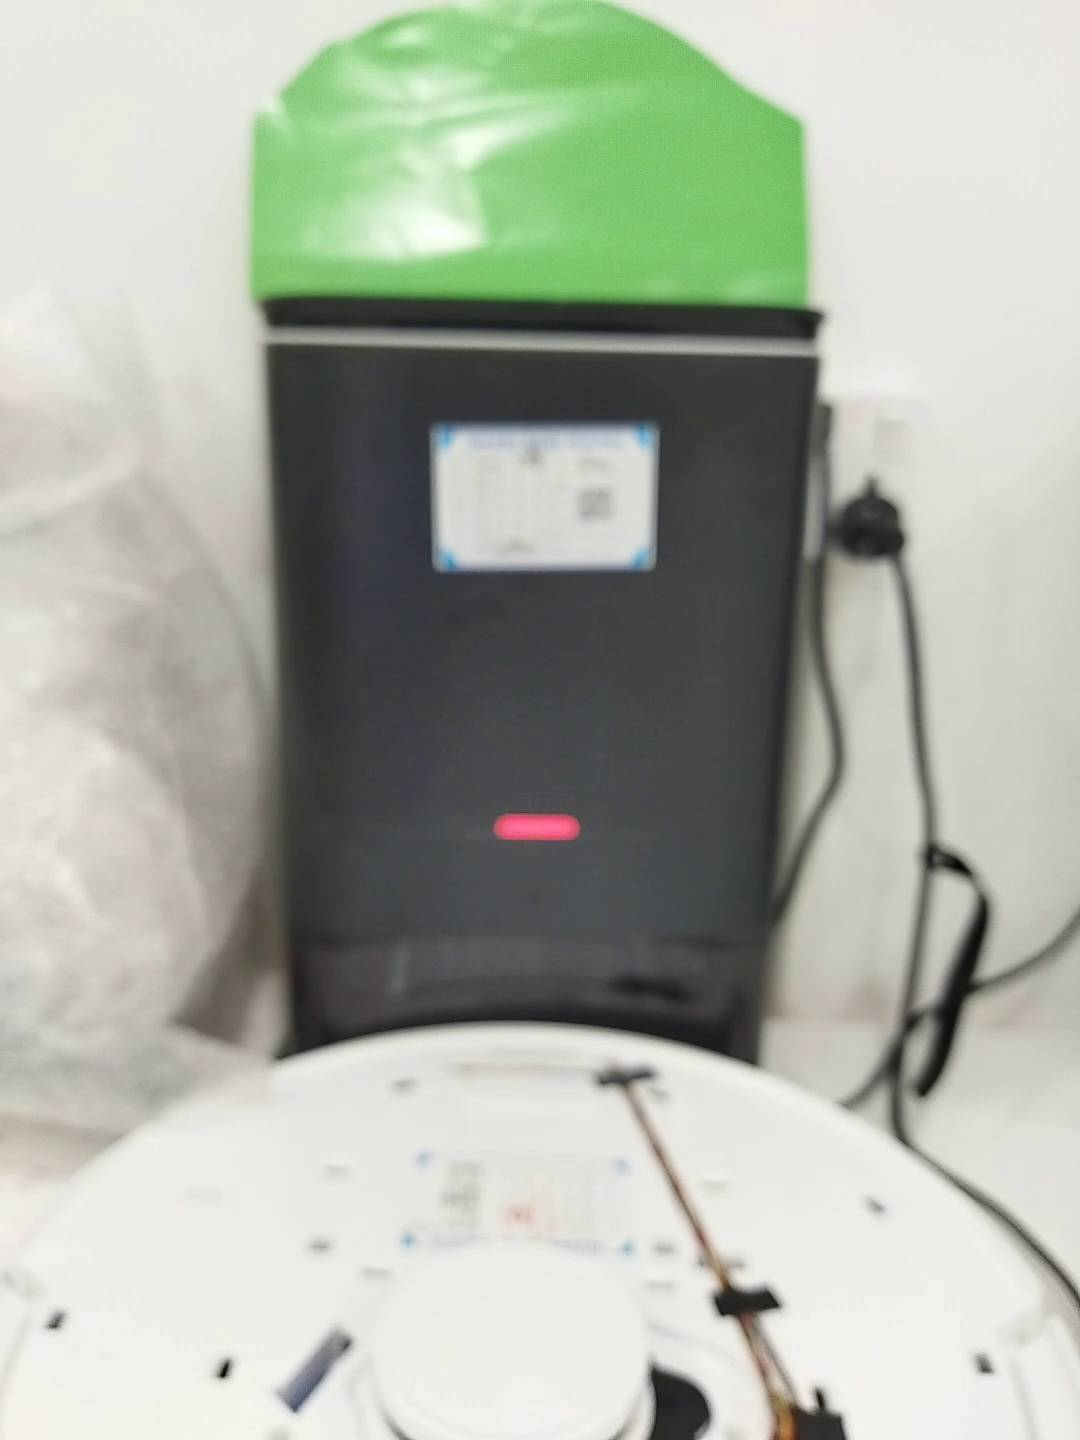dust collecting barrel: (259, 299, 826, 1071)
